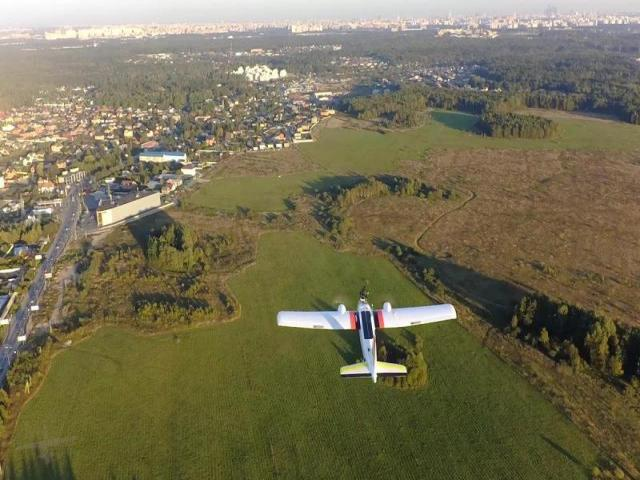hedef: (270, 284, 467, 387)
